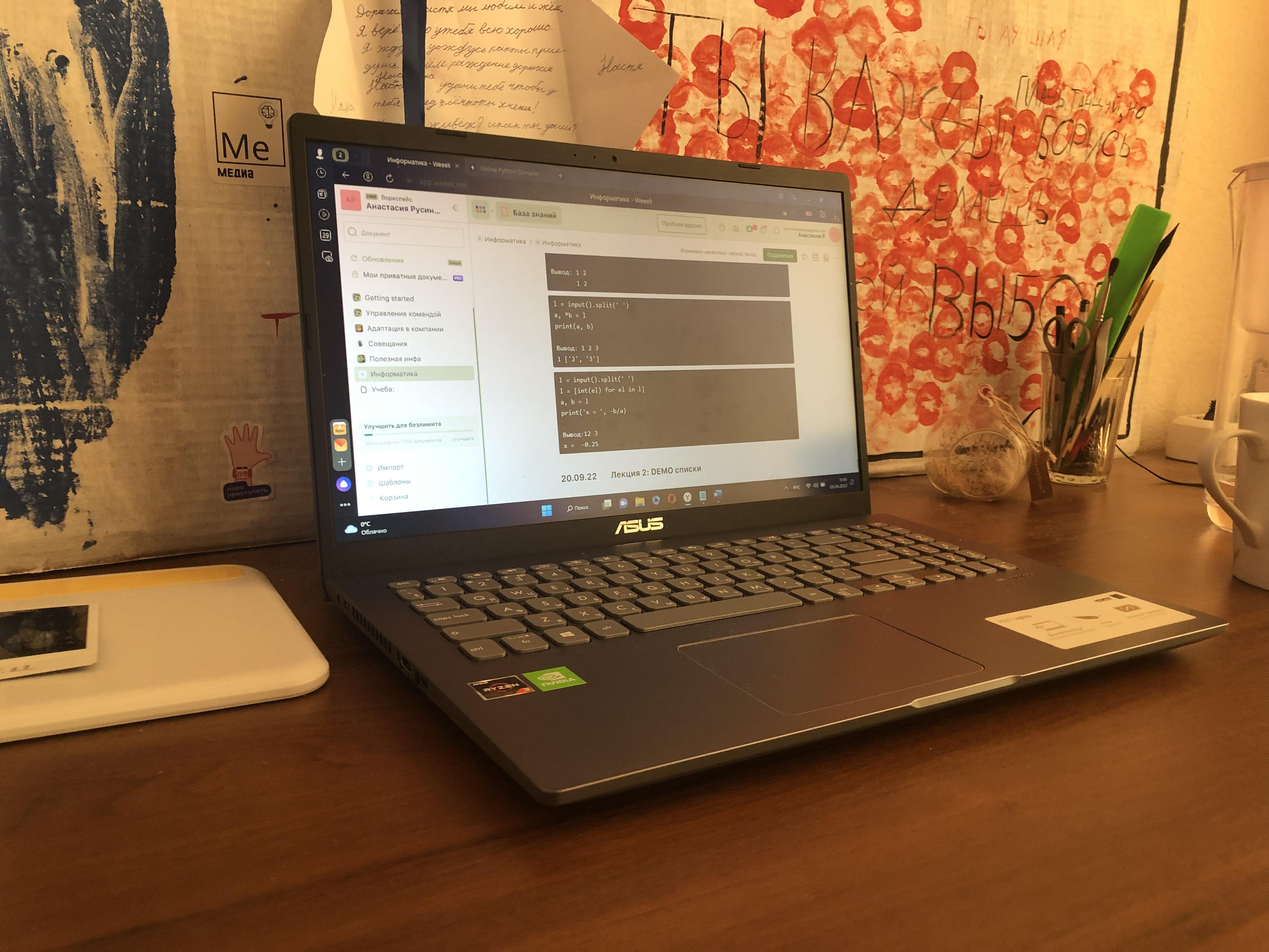monitor: (277, 104, 877, 586)
